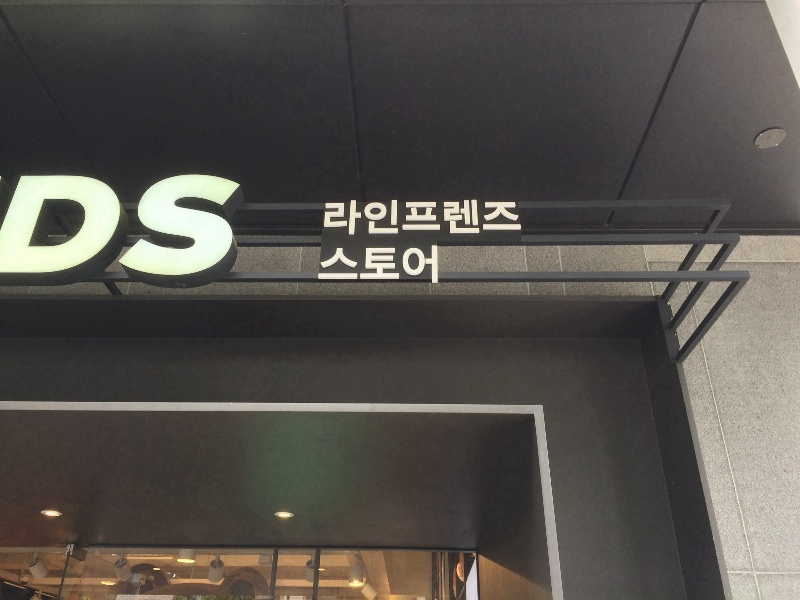text: (1, 169, 16, 286), (17, 169, 32, 286), (33, 169, 48, 286), (49, 169, 64, 286), (65, 169, 80, 286), (81, 169, 96, 286), (97, 169, 112, 286), (113, 169, 128, 286), (129, 169, 144, 286), (145, 169, 160, 286), (161, 169, 176, 286), (177, 169, 192, 286), (193, 169, 208, 286), (209, 169, 224, 286), (225, 169, 240, 286), (241, 169, 247, 286), (321, 246, 336, 286), (337, 246, 352, 286), (353, 246, 368, 286), (369, 246, 384, 286), (385, 246, 400, 286), (401, 246, 416, 286), (417, 246, 432, 286), (337, 199, 352, 238), (353, 199, 368, 238), (369, 199, 384, 238), (385, 199, 400, 238), (401, 199, 416, 238), (417, 199, 432, 238), (433, 199, 448, 238), (449, 199, 464, 238), (465, 199, 480, 238), (481, 199, 496, 238), (497, 199, 512, 238), (325, 199, 336, 238), (513, 199, 524, 238), (433, 246, 439, 286)
